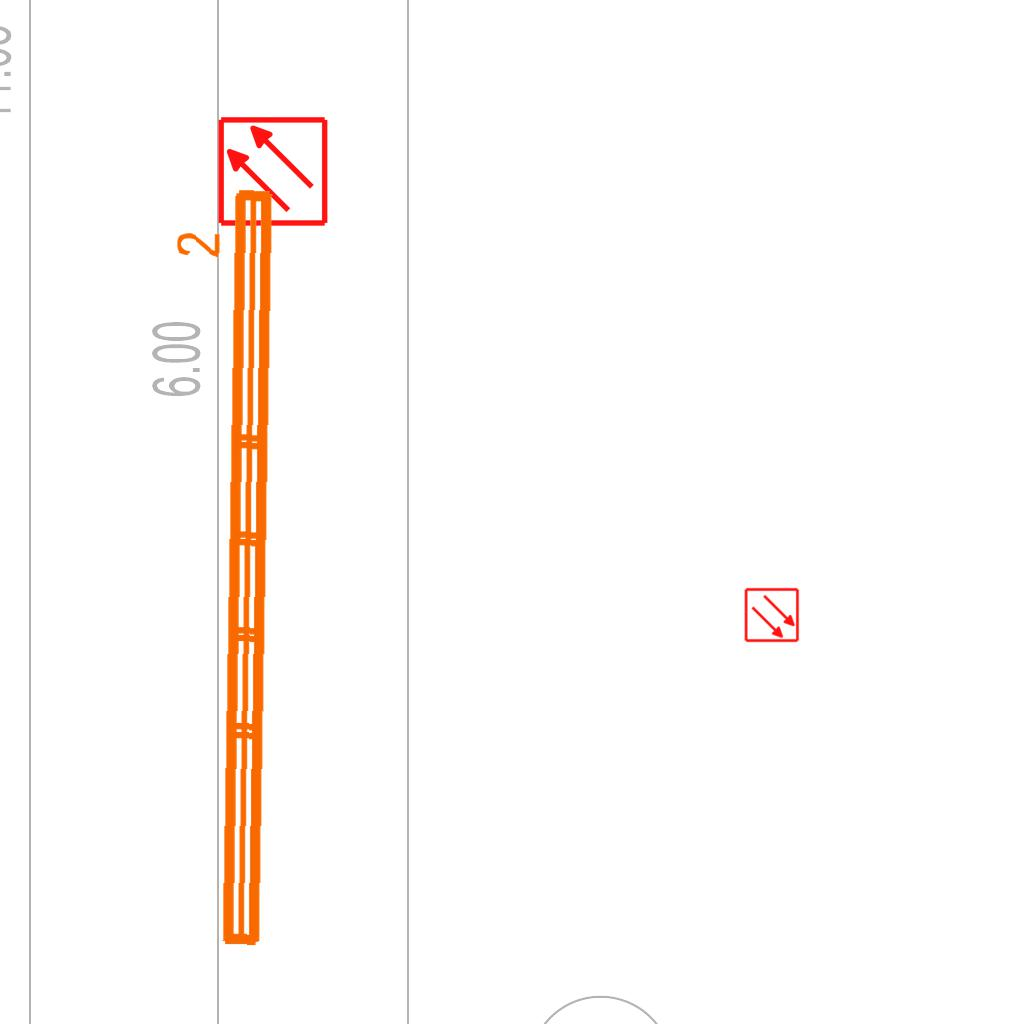Ambulanz_Pendelleuchte_LED: (159, 180, 285, 956)
RMO_Rauchmelder_optischer: (216, 115, 329, 228), (744, 587, 800, 643)
